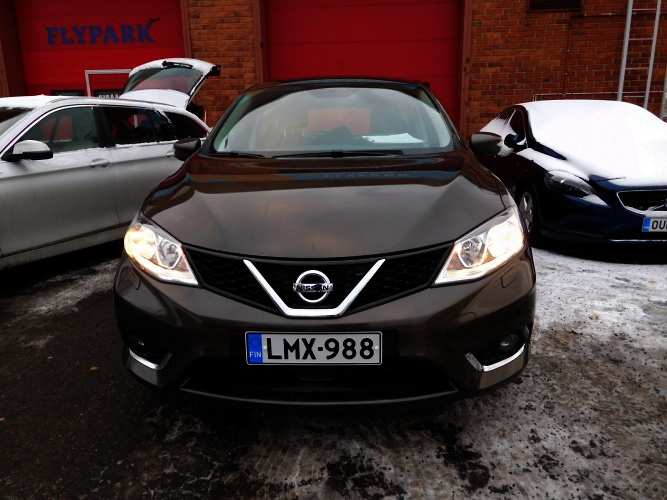license: (242, 327, 382, 370)
